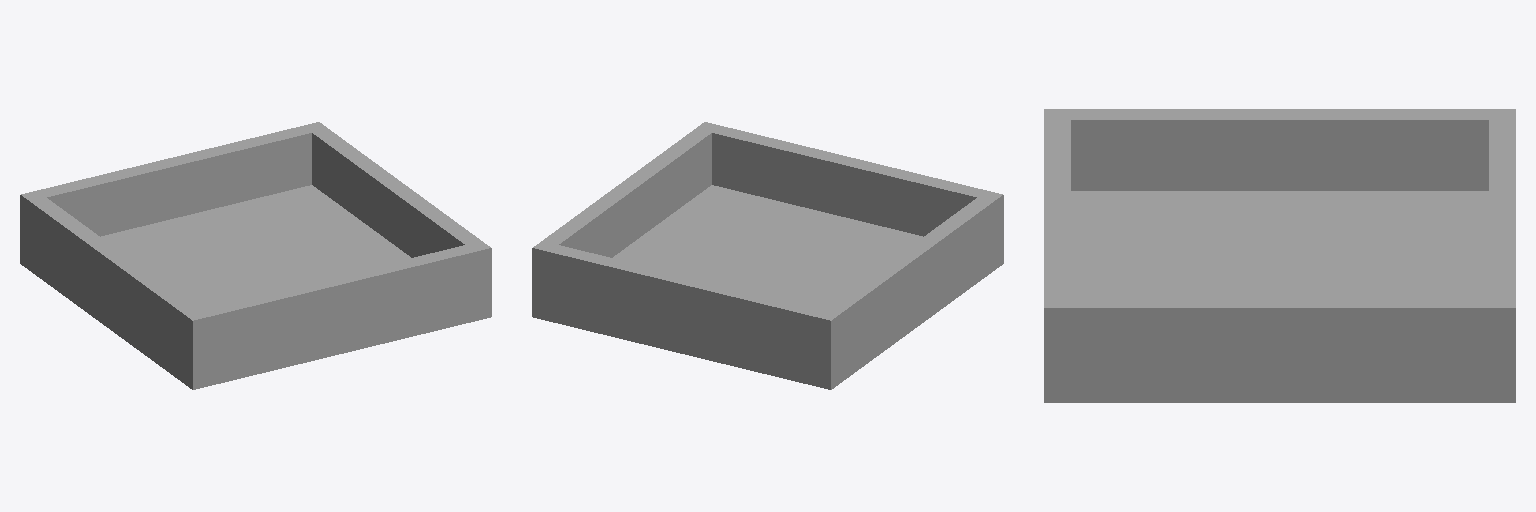
robot.urdf — Tray:
<?xml version='1.0'?>
<robot name="Tray">

    <!-- Wood Base Link [0] -->
    <link name="Base">
        <inertial>
            <mass value="50.0"/>  <!-- Mass in kilograms -->
            <origin xyz="0 0 0" rpy="0 0 0"/>  <!-- Center of mass position (relative to link frame) -->
            <inertia ixx="0.01" ixy="0.0" ixz="0.0" iyy="0.01" iyz="0.0" izz="0.01"/>  <!-- Inertia matrix -->
        </inertial>
        <visual>
            <geometry>
                <box size="0.08 0.08 0.005"/>
            </geometry>
            <material name="ligt_gray">
                <color rgba="0.7 0.7 0.7 1.0"/>
            </material>
        </visual>
        <collision>
            <geometry>
                <box size="0.08 0.08 0.005"/>
            </geometry>
        </collision>
    </link>

    <!-- Wood Base Link [0] -->
    <link name="Right">
        <inertial>
            <mass value="50.0"/>  <!-- Mass in kilograms -->
            <origin xyz="0 0 0" rpy="0 0 0"/>  <!-- Center of mass position (relative to link frame) -->
            <inertia ixx="0.01" ixy="0.0" ixz="0.0" iyy="0.01" iyz="0.0" izz="0.01"/>  <!-- Inertia matrix -->
        </inertial>
        <visual>
            <geometry>
                <box size="0.005 0.08 0.02"/>
            </geometry>
            <material name="ligt_gray">
                <color rgba="0.7 0.7 0.7 1.0"/>
            </material>
        </visual>
        <collision>
            <geometry>
                <box size="0.005 0.08 0.02"/>
            </geometry>
        </collision>
    </link>

    <!-- Wood Base Link [0] -->
    <link name="Left">
        <inertial>
            <mass value="50.0"/>  <!-- Mass in kilograms -->
            <origin xyz="0 0 0" rpy="0 0 0"/>  <!-- Center of mass position (relative to link frame) -->
            <inertia ixx="0.01" ixy="0.0" ixz="0.0" iyy="0.01" iyz="0.0" izz="0.01"/>  <!-- Inertia matrix -->
        </inertial>
        <visual>
            <geometry>
                <box size="0.005 0.08 0.02"/>
            </geometry>
            <material name="ligt_gray">
                <color rgba="0.7 0.7 0.7 1.0"/>
            </material>
        </visual>
        <collision>
            <geometry>
                <box size="0.005 0.08 0.02"/>
            </geometry>
        </collision>
    </link>

    <!-- Wood Base Link [0] -->
    <link name="Top">
        <inertial>
            <mass value="50.0"/>  <!-- Mass in kilograms -->
            <origin xyz="0 0 0" rpy="0 0 0"/>  <!-- Center of mass position (relative to link frame) -->
            <inertia ixx="0.01" ixy="0.0" ixz="0.0" iyy="0.01" iyz="0.0" izz="0.01"/>  <!-- Inertia matrix -->
        </inertial>
        <visual>
            <geometry>
                <box size="0.09 0.005 0.02"/>
            </geometry>
            <material name="ligt_gray">
                <color rgba="0.7 0.7 0.7 1.0"/>
            </material>
        </visual>
        <collision>
            <geometry>
                <box size="0.09 0.005 0.02"/>
            </geometry>
        </collision>
    </link>

    <!-- Wood Base Link [0] -->
    <link name="Bottom">
        <inertial>
            <mass value="50.0"/>  <!-- Mass in kilograms -->
            <origin xyz="0 0 0" rpy="0 0 0"/>  <!-- Center of mass position (relative to link frame) -->
            <inertia ixx="0.01" ixy="0.0" ixz="0.0" iyy="0.01" iyz="0.0" izz="0.01"/>  <!-- Inertia matrix -->
        </inertial>
        <visual>
            <geometry>
                <box size="0.09 0.005 0.02"/>
            </geometry>
            <material name="ligt_gray">
                <color rgba="0.7 0.7 0.7 1.0"/>
            </material>
        </visual>
        <collision>
            <geometry>
                <box size="0.09 0.005 0.02"/>
            </geometry>
        </collision>
    </link>

    <!-- Joint connecting wood to metal base does not move [0] -->
    <joint name="Base_Right" type="fixed">
        <parent link="Base"/>
        <child link="Right"/>
        <origin xyz="0.0425 0 0.0075" rpy="0 0 0"/>
    </joint>

    <!-- Joint connecting wood to metal base does not move [1] -->
    <joint name="Base_Left" type="fixed">
        <parent link="Base"/>
        <child link="Left"/>
        <origin xyz="-0.0425 0 0.0075" rpy="0 0 0"/>
    </joint>

    <!-- Joint connecting wood to metal base does not move [1] -->
    <joint name="Base_Top" type="fixed">
        <parent link="Base"/>
        <child link="Top"/>
        <origin xyz="0 0.0425 0.0075" rpy="0 0 0"/>
    </joint>

    <!-- Joint connecting wood to metal base does not move [1] -->
    <joint name="Base_Bottom" type="fixed">
        <parent link="Base"/>
        <child link="Bottom"/>
        <origin xyz="0 -0.0425 0.0075" rpy="0 0 0"/>
    </joint>

</robot>

--- Facts derived from the render (not from the file) ---
The picture shows the robot from 3 angles, left to right: view 1: azimuth 30°, elevation 25°; view 2: azimuth 150°, elevation 25°; view 3: azimuth 270°, elevation 25°; orthographic projection.
Robot: Tray — 5 links, 4 joints (4 fixed); root link Base; default pose: every joint at zero.
Links seen in each view (by area): view 1: Bottom, Base, Top, Left, Right; view 2: Top, Base, Bottom, Left, Right; view 3: Base, Right, Left, Top, Bottom.
Boxes of the visible links, x1,y1,x2,y2 form: Bottom: (183,241,491,389); Base: (101,185,410,309); Top: (20,122,327,270); Left: (30,198,199,382); Right: (312,129,480,257); Top: (532,241,840,389); Base: (613,185,922,309); Bottom: (696,122,1003,270); Left: (824,198,993,382); Right: (543,129,711,257); Base: (1071,191,1488,296); Right: (1071,297,1488,402); Left: (1071,109,1488,190); Top: (1489,109,1515,402); Bottom: (1044,109,1070,402).
Size in the robot's own frame: 0.09 by 0.09 by 0.02 metres.
Geometry: primitives only (box / cylinder / sphere), no mesh files.